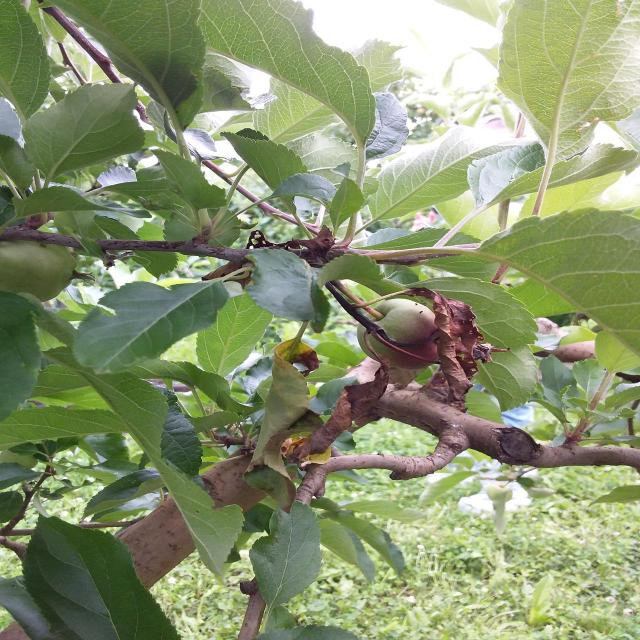-FireBlight-: (293, 277, 493, 453)
